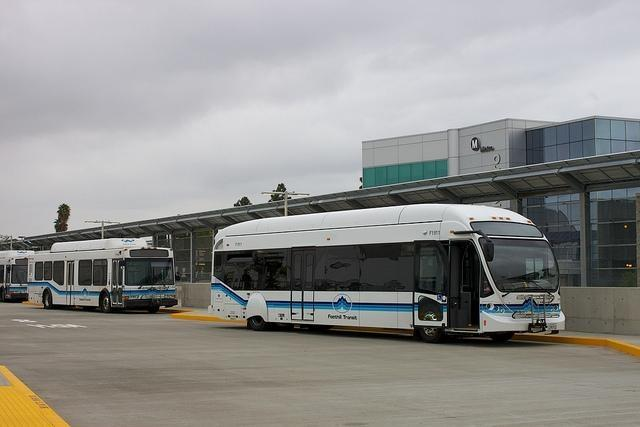bus: (210, 201, 573, 342), (29, 240, 178, 314), (1, 249, 32, 304)
